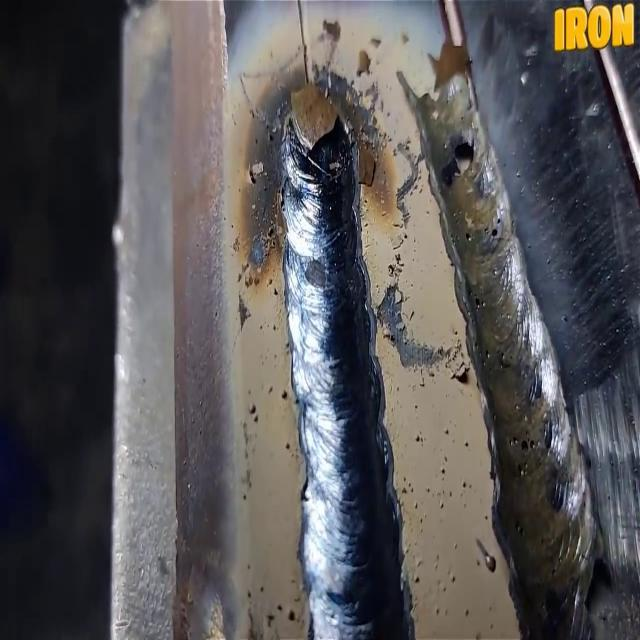Good Welding: (282, 199, 400, 633)
